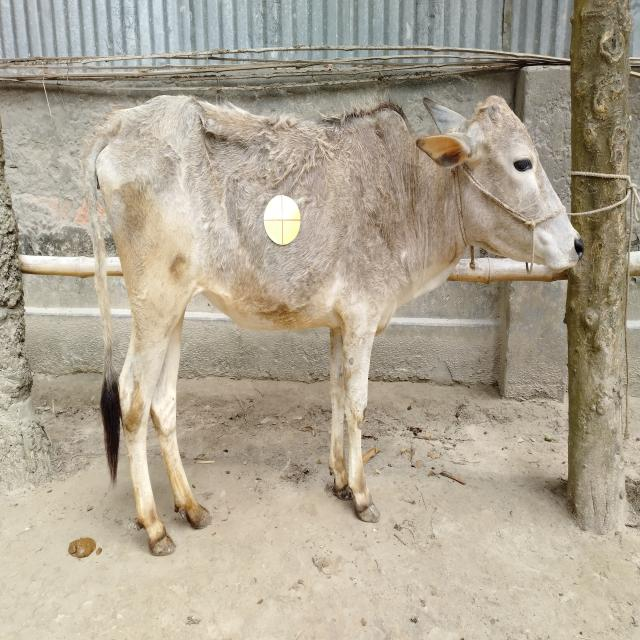badan_sapi: (97, 99, 413, 330)
sapi: (79, 70, 587, 578)
